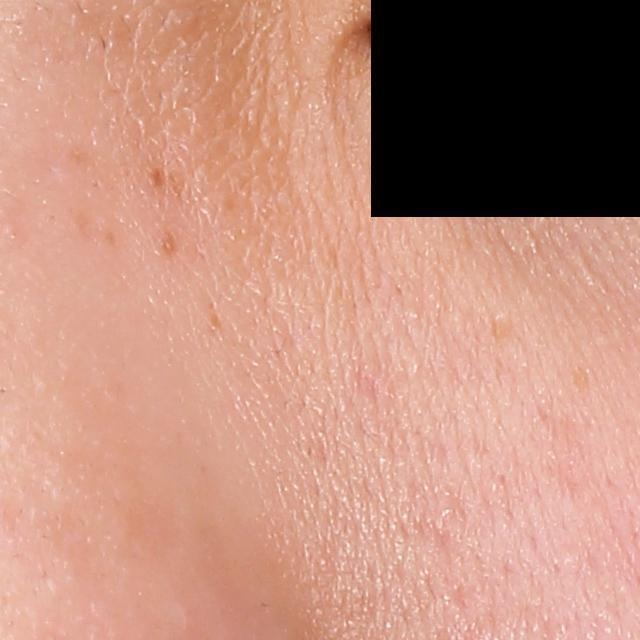melasma: (484, 315, 520, 355), (146, 169, 174, 195)
